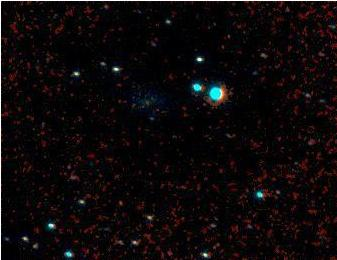star: (247, 161, 277, 191)
